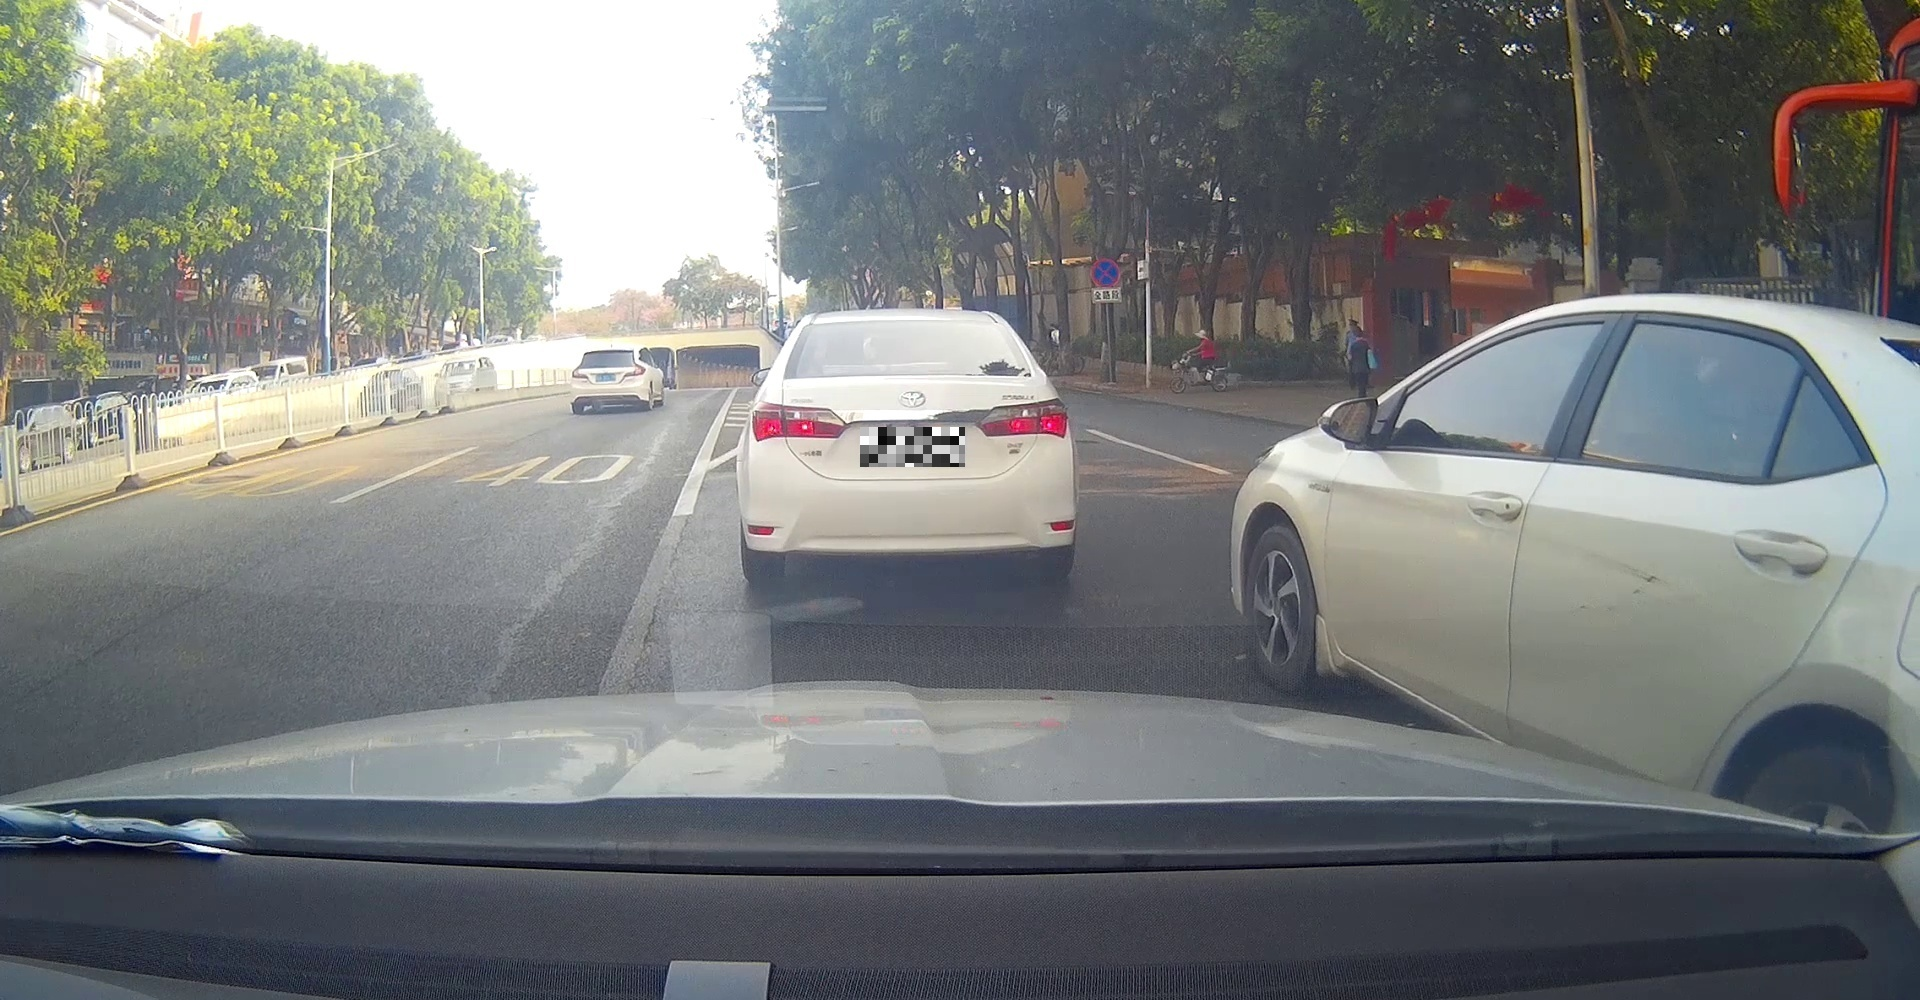L_light: (749, 398, 848, 442), (571, 369, 588, 379)
R_light: (977, 396, 1069, 440), (623, 365, 646, 377)
T_light: (888, 368, 937, 376), (604, 350, 617, 353)
day-no: (733, 306, 1078, 581), (569, 344, 649, 414)
plate_1: (860, 426, 965, 467)
